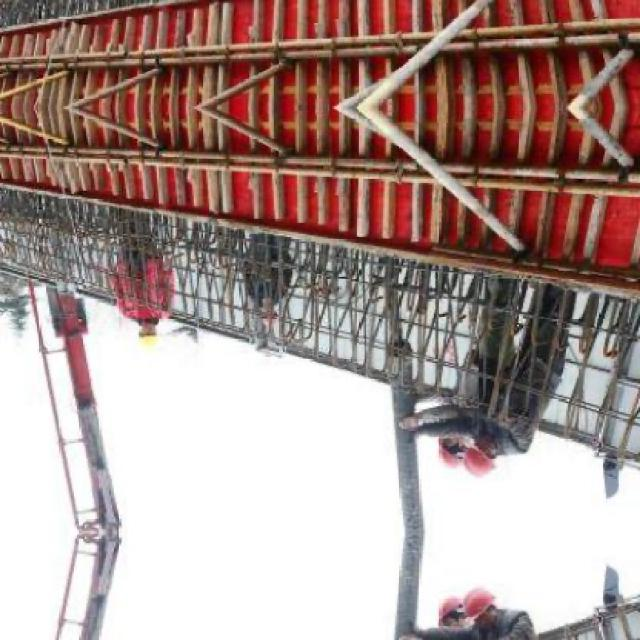con casco: (424, 411, 530, 476), (124, 307, 162, 355)
